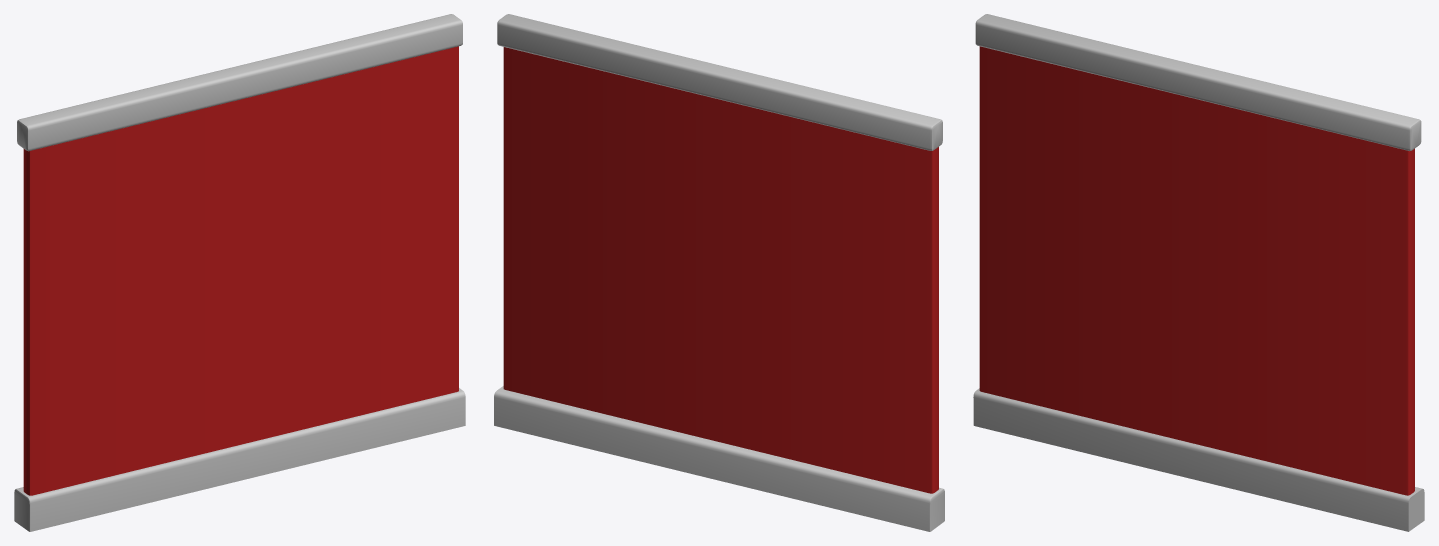
Rendered from SM_wall.fbx.
3 views of the same model, side by side, from view 1: azimuth 30°, elevation 25°; view 2: azimuth 150°, elevation 25°; view 3: azimuth 330°, elevation 25° (orthographic).
Parts seen in each view (by area): view 1: Object053; view 2: Object053; view 3: Object053.
Boxes of the visible parts, x1=… form: Object053: x1=14, y1=14, x2=465, y2=531; Object053: x1=494, y1=14, x2=944, y2=531; Object053: x1=973, y1=14, x2=1424, y2=531.
Size of the model in its own units: 190 by 168 by 11.68.
